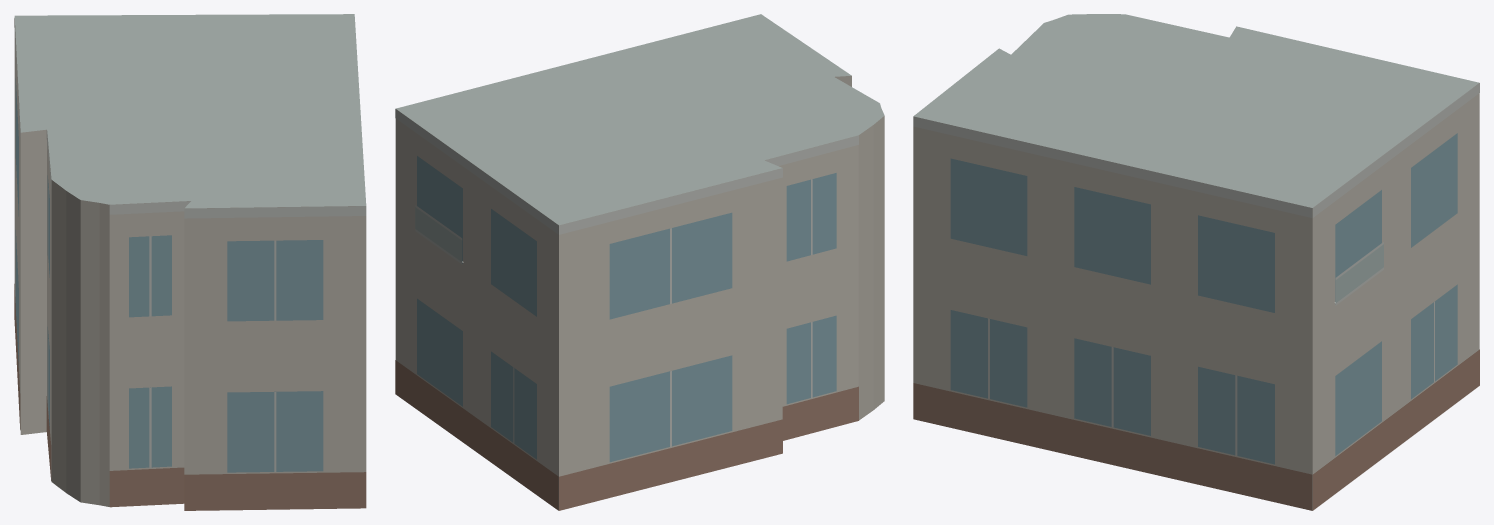
The model's file is survey-upis-32487270.glb.
3 views of the same model, side by side, from view 1: azimuth 30°, elevation 25°; view 2: azimuth 150°, elevation 25°; view 3: azimuth 270°, elevation 25° (orthographic). The views are drawn at different scales.
Visible parts, largest first — view 1: survey-upis-32487270.tmp; view 2: survey-upis-32487270.tmp; view 3: survey-upis-32487270.tmp.
Boxes of the visible parts, left/top/right/bottom form: survey-upis-32487270.tmp: left=14, top=14, right=366, bottom=510; survey-upis-32487270.tmp: left=395, top=14, right=884, bottom=510; survey-upis-32487270.tmp: left=913, top=14, right=1479, bottom=510.
Bounding box in the file's own units: 10.04 × 7.3 × 12.39.
